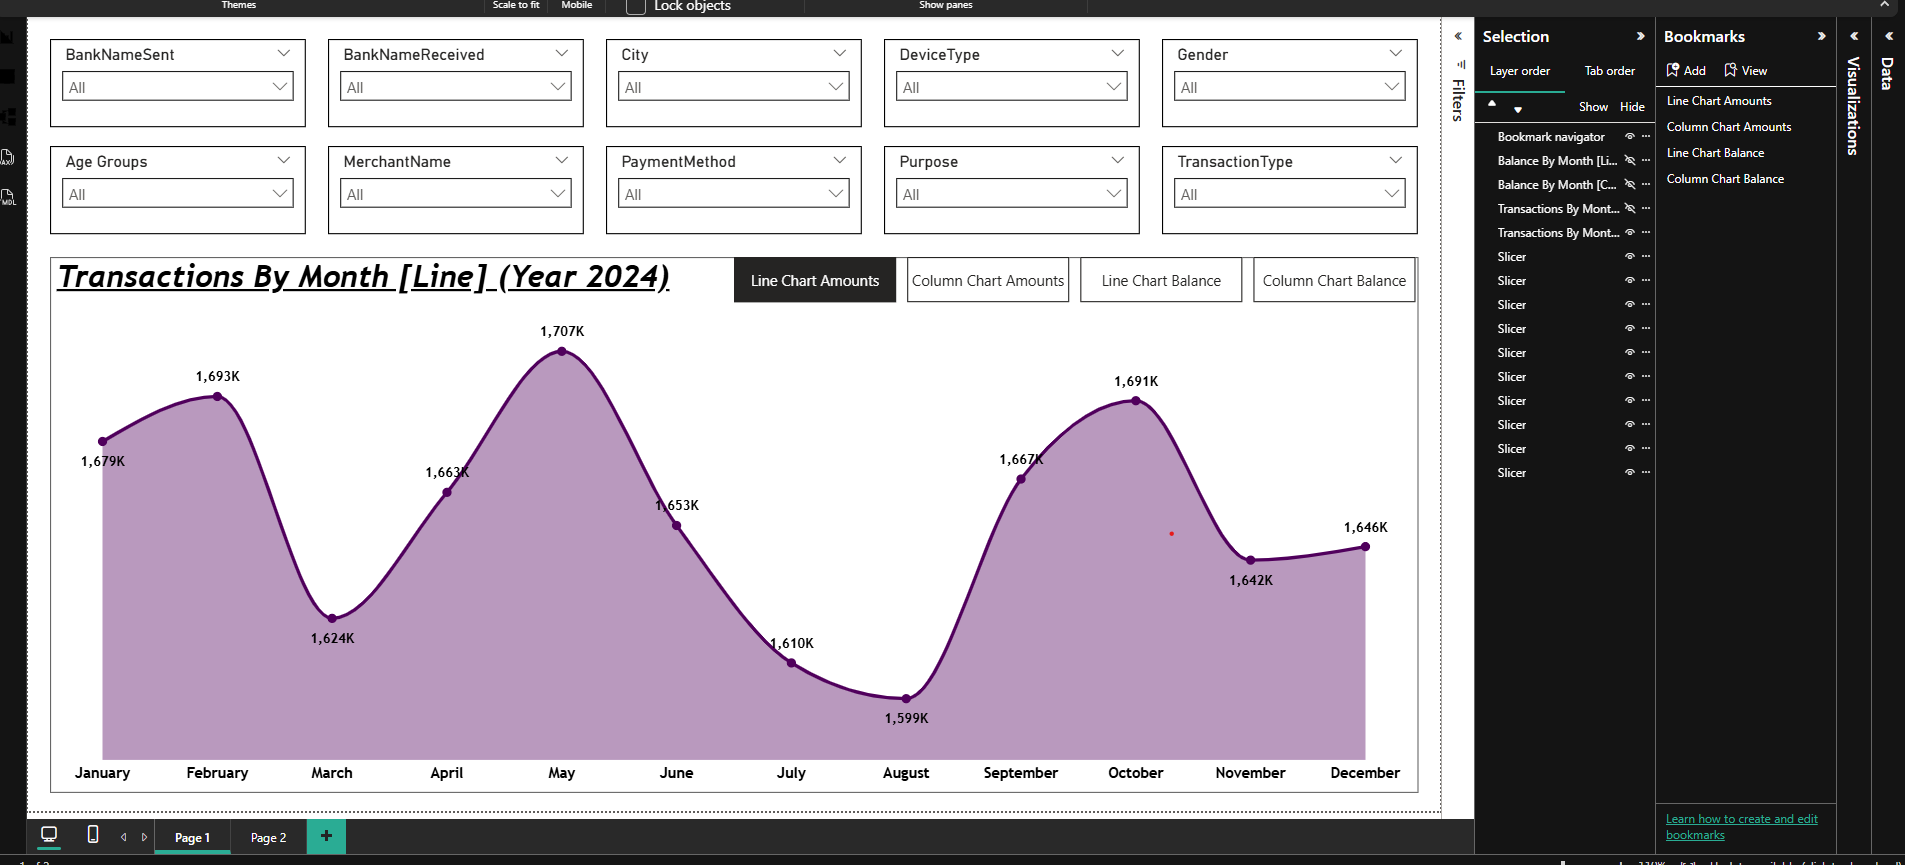

Layout of this report page (visuals, bound fields, positions):
{"tool":"powerbi","page":{"name":"Page 1","canvas":[1280,720],"ordinal":0},"visuals":[{"type":"slicer","fields":{"Values":["UPI Transactions.BankNameSent"]},"box":[20,20,232,80],"z":0},{"type":"slicer","fields":{"Values":["UPI Transactions.BankNameReceived"]},"box":[272,20,232.1,80],"z":1000},{"type":"slicer","fields":{"Values":["UPI Transactions.City"]},"box":[524.1,20,232.1,80],"z":2000},{"type":"slicer","fields":{"Values":["UPI Transactions.DeviceType"]},"box":[776,20,232.1,80],"z":3000},{"type":"slicer","fields":{"Values":["UPI Transactions.Gender"]},"box":[1028,20,232.1,80],"z":4000},{"type":"slicer","fields":{"Values":["UPI Transactions.Age Groups"]},"box":[20,117,232.1,80],"z":5000},{"type":"slicer","fields":{"Values":["UPI Transactions.MerchantName"]},"box":[272,117,232.1,80],"z":6000},{"type":"slicer","fields":{"Values":["UPI Transactions.PaymentMethod"]},"box":[524.1,117,232.1,80],"z":7000},{"type":"slicer","fields":{"Values":["UPI Transactions.Purpose"]},"box":[776.2,117,232.1,80],"z":8000},{"type":"slicer","fields":{"Values":["UPI Transactions.TransactionType"]},"box":[1028.3,117,232.1,80],"z":9000},{"type":"lineChart","title":"Transactions By Month [Line] (Year 2024)","fields":{"Category":["UPI Transactions.TransactionDate.Variation.Date Hierarchy.Month"],"Y":["Sum(UPI Transactions.Amount)"]},"box":[19.9,217.6,1240.5,486],"z":10000},{"type":"bookmarkNavigator","box":[640.2,217.6,620.3,41.7],"z":14500}]}

Visuals, with their boxes on the page's 1280x720 design canvas (x1, y1, x2, y2). These are canvas units, not pixel positions in the 1905x865 screenshot, which may show the page scaled, cropped or inside an application window:
slicer - UPI Transactions.BankNameSent: Rect(20, 20, 252, 100)
slicer - UPI Transactions.BankNameReceived: Rect(272, 20, 504, 100)
slicer - UPI Transactions.City: Rect(524, 20, 756, 100)
slicer - UPI Transactions.DeviceType: Rect(776, 20, 1008, 100)
slicer - UPI Transactions.Gender: Rect(1028, 20, 1260, 100)
slicer - UPI Transactions.Age Groups: Rect(20, 117, 252, 197)
slicer - UPI Transactions.MerchantName: Rect(272, 117, 504, 197)
slicer - UPI Transactions.PaymentMethod: Rect(524, 117, 756, 197)
slicer - UPI Transactions.Purpose: Rect(776, 117, 1008, 197)
slicer - UPI Transactions.TransactionType: Rect(1028, 117, 1260, 197)
"Transactions By Month [Line] (Year 2024)" lineChart: Rect(20, 218, 1260, 704)
bookmarkNavigator: Rect(640, 218, 1260, 259)
